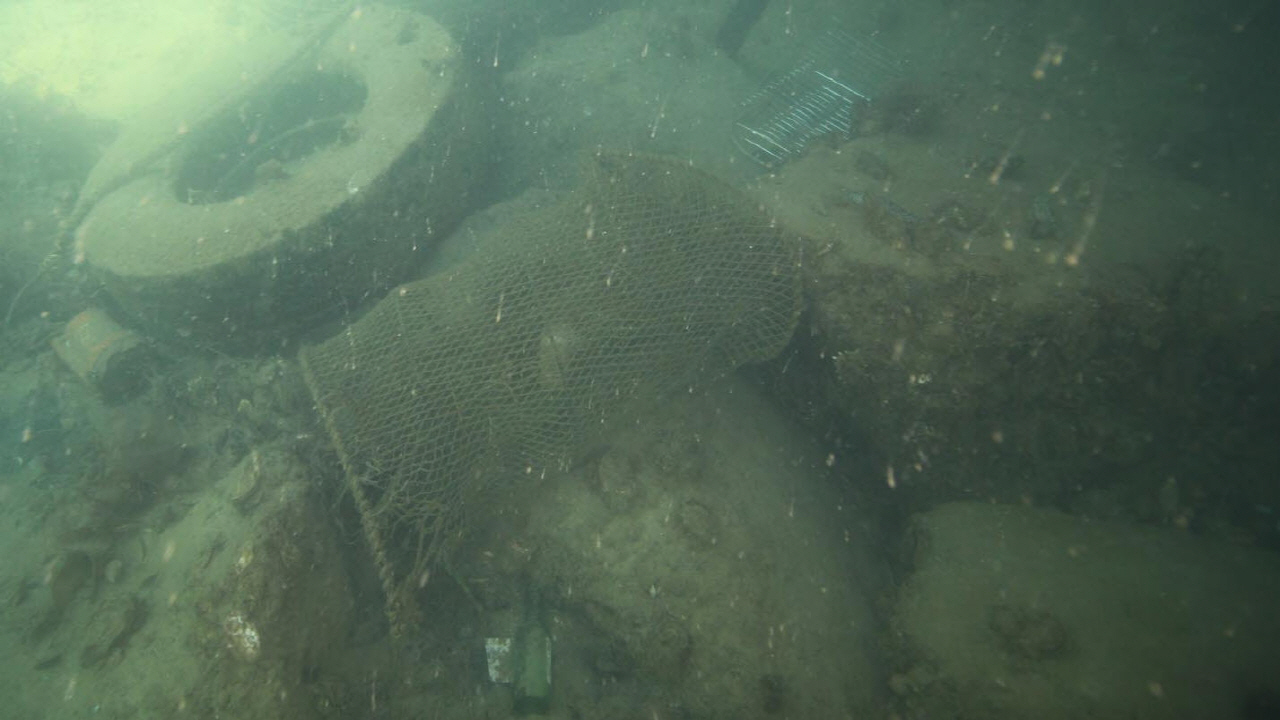rope: (0, 3, 361, 333)
spring fish trap: (295, 148, 801, 652)
tire: (68, 0, 490, 345)
